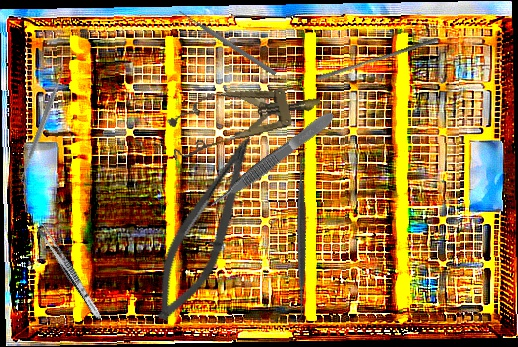Dressing Forceps: (34, 221, 105, 322)
Micro Scissor: (143, 125, 265, 331)
Pusher: (177, 8, 278, 77), (316, 32, 439, 85)
Spatula Surgical: (213, 147, 389, 324), (12, 62, 73, 188)
Speculum: (163, 71, 327, 163)
Tissue Forceps: (204, 108, 339, 212)
